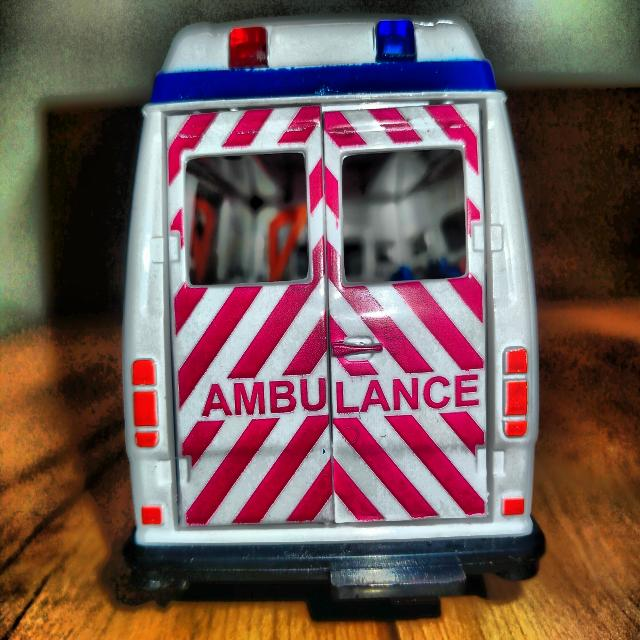Ambulance: (125, 19, 544, 618)
